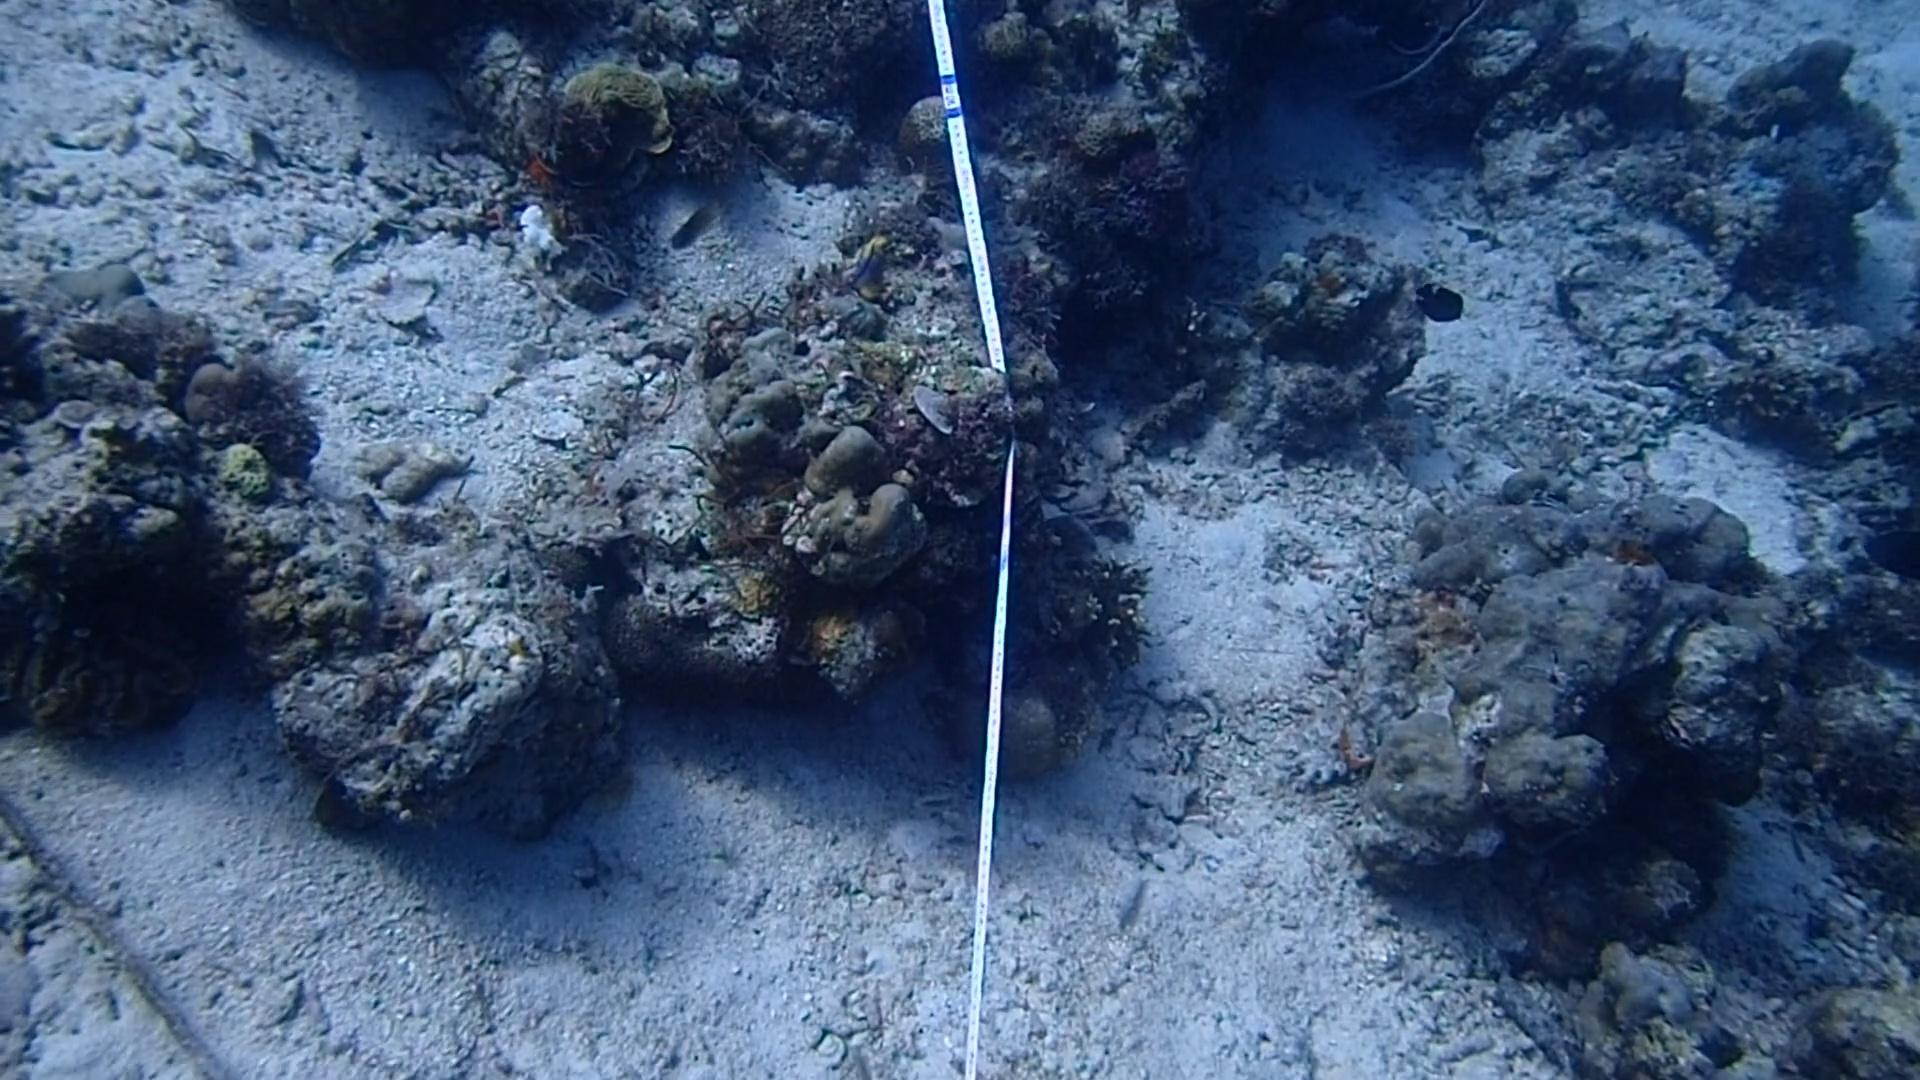Dark Fish: (1849, 522, 1920, 584), (1410, 276, 1468, 323)
Light Fish: (661, 200, 729, 258)
